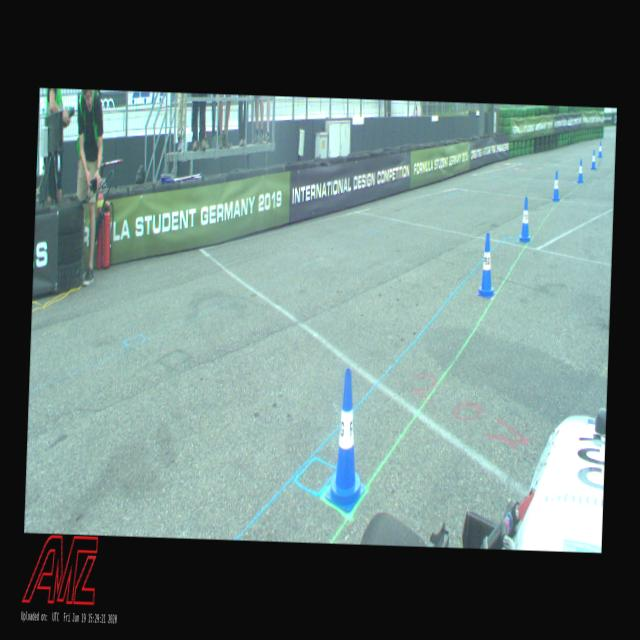blue_cone: (325, 367, 369, 513), (477, 232, 497, 298), (518, 198, 530, 240), (552, 170, 560, 201), (577, 159, 583, 182), (591, 150, 596, 169), (597, 141, 602, 157)
